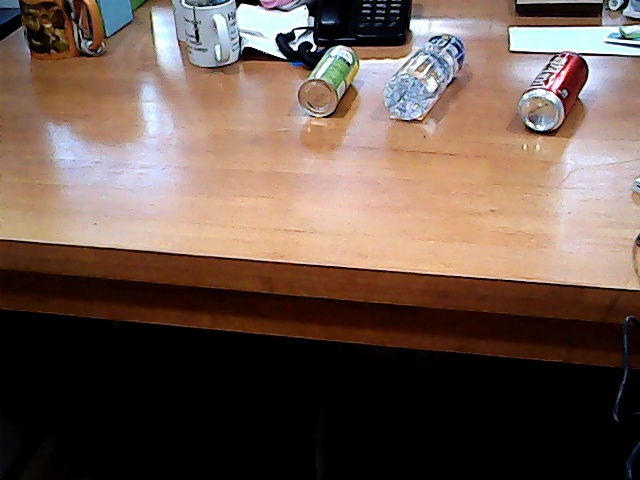Cola: (505, 32, 598, 159)
Pine Juice: (282, 28, 365, 131)
Summit Water: (376, 22, 471, 130)
